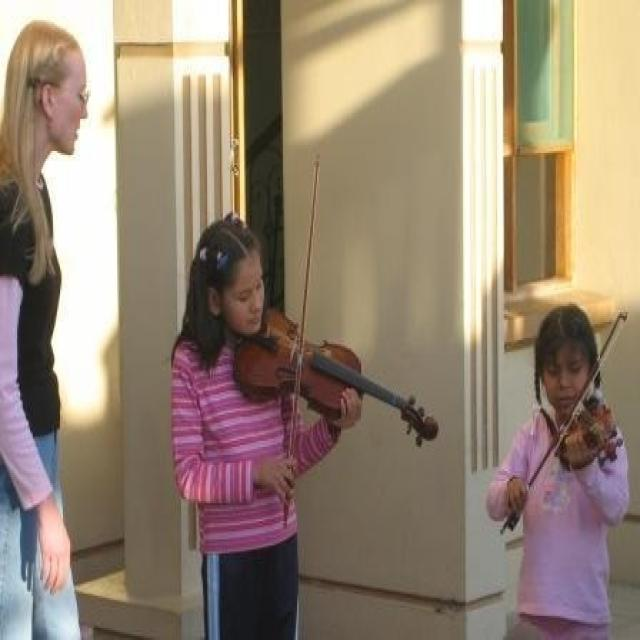violin: (230, 308, 446, 446), (555, 401, 623, 470)
